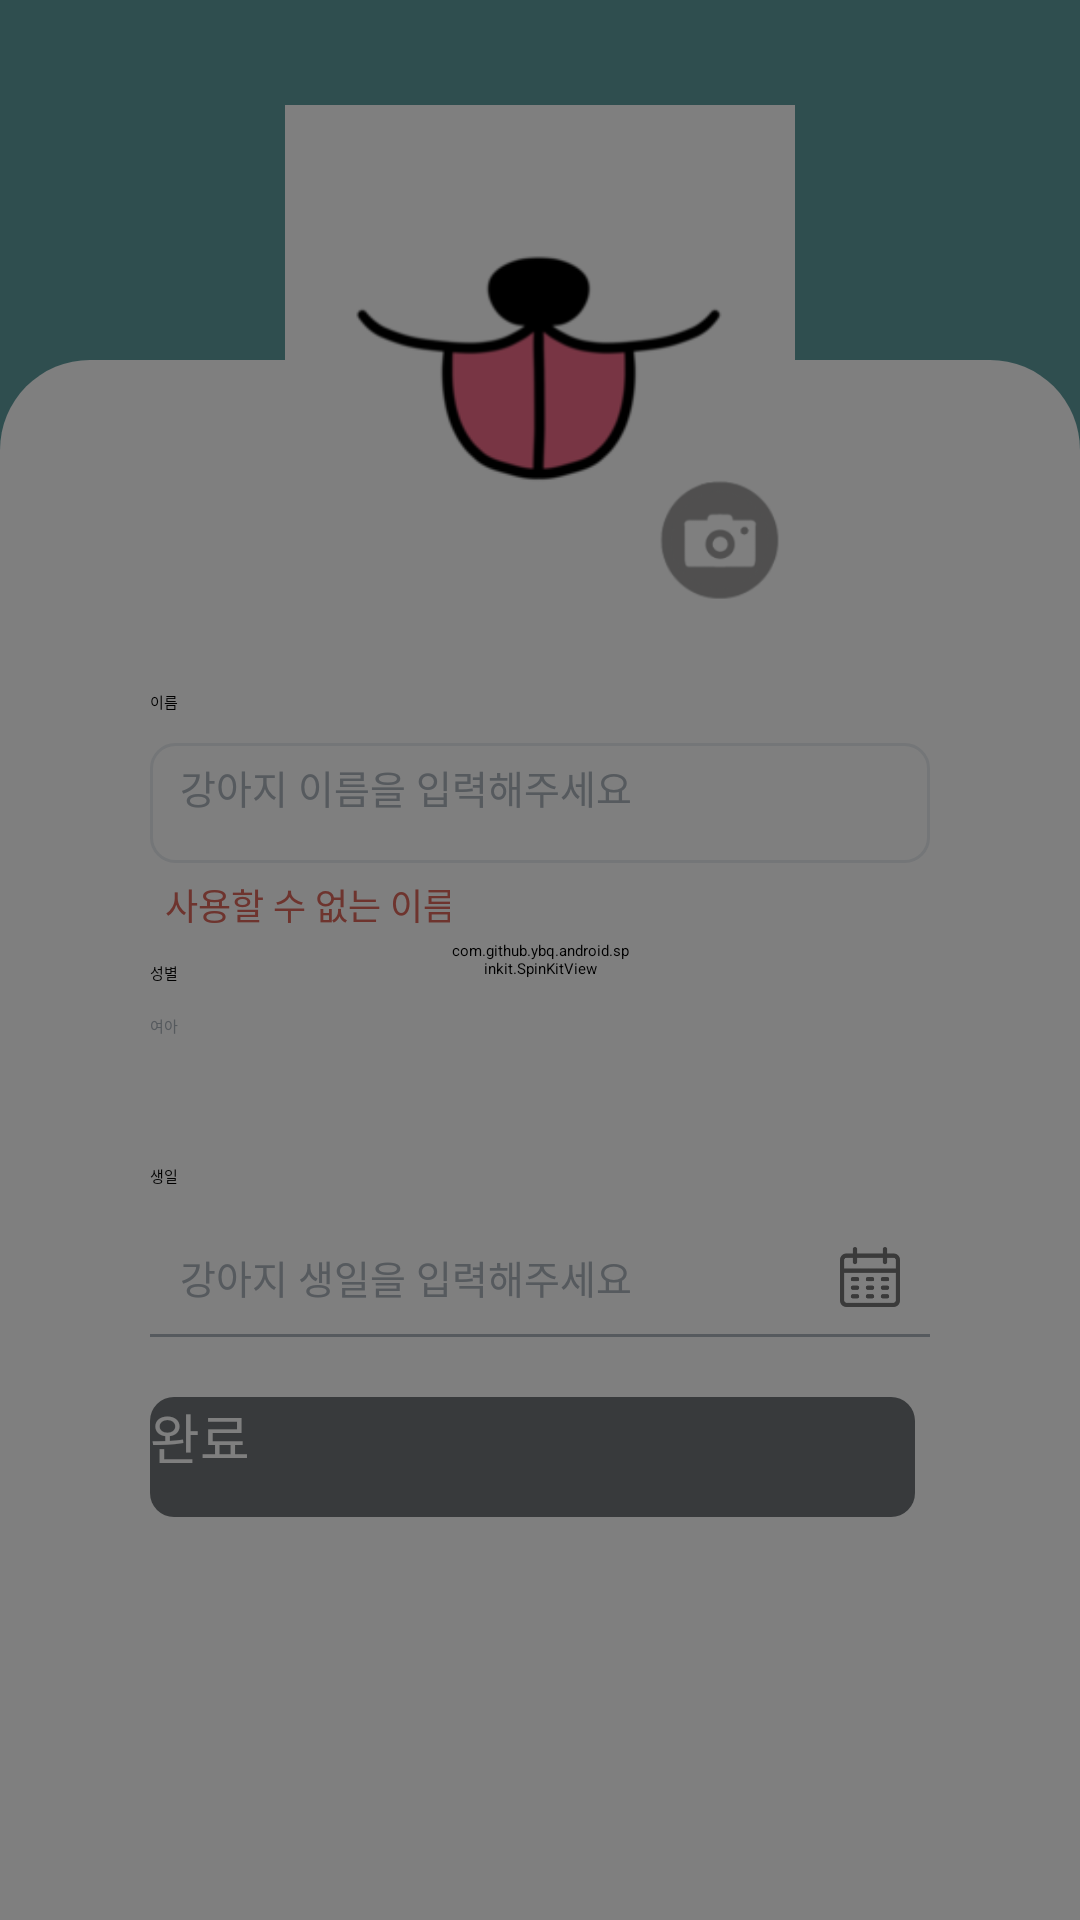

Icon bounding boxes for this 1080x1920 phone screenshot, format Rect(x1, y1, x2, y2):
calendar: Rect(840, 1247, 900, 1307)
